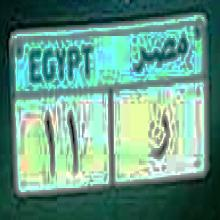1: (65, 108, 82, 178), (40, 111, 56, 174)
raa: (146, 110, 172, 166)
